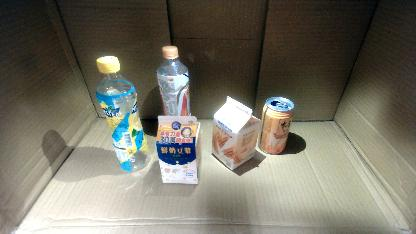Can: (258, 96, 294, 156)
Plastic Bottle: (94, 56, 152, 172), (156, 45, 192, 147)
